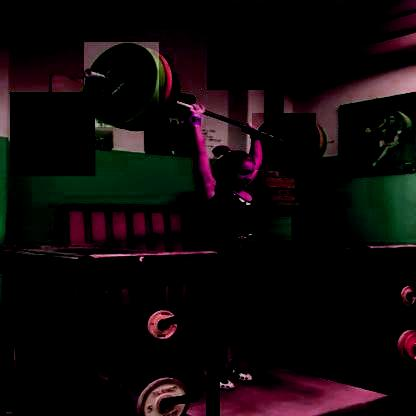barbell: (85, 42, 160, 128), (252, 114, 316, 170)
